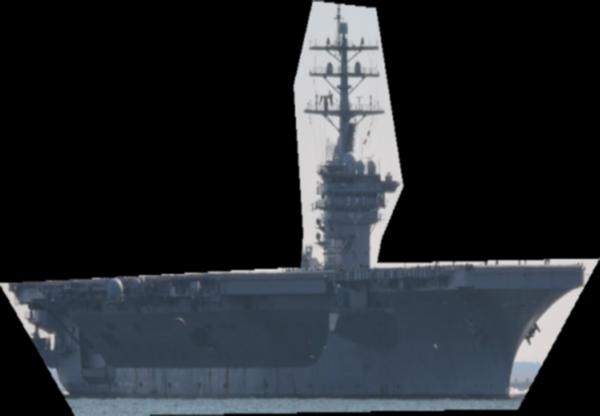Aircraft Carrier: (0, 0, 600, 416)
